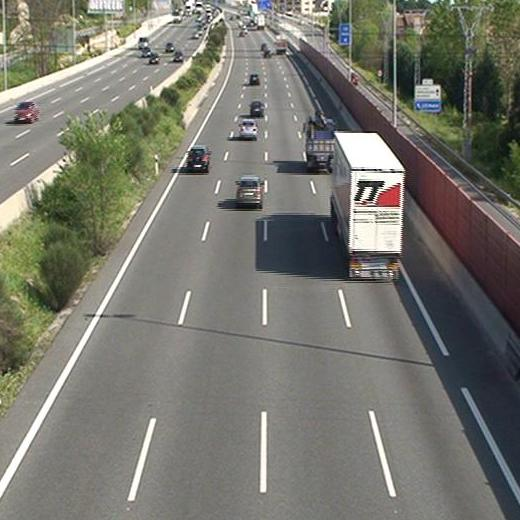car: (236, 176, 263, 208), (187, 146, 211, 171), (239, 121, 258, 140), (250, 100, 264, 115), (248, 73, 260, 85)
small-truck: (304, 117, 339, 172)
truck: (331, 132, 402, 280)
